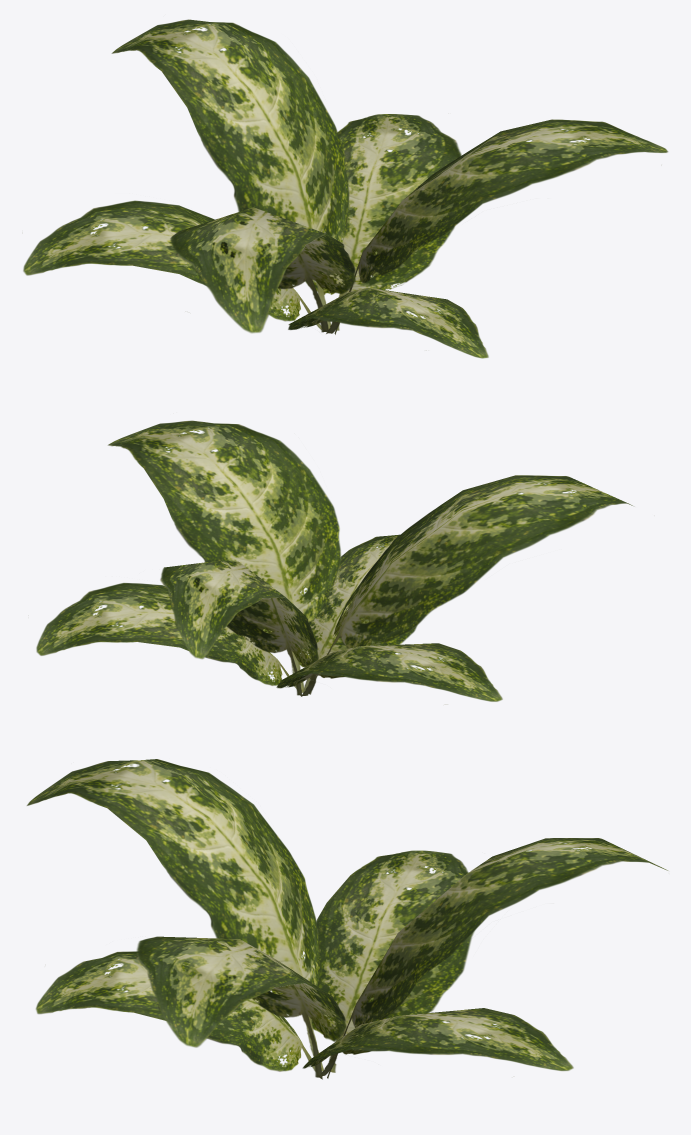
The model's file is tropical_plant_2.glb.
3 renders of one model, top to bottom at view 1: azimuth 30°, elevation 25°; view 2: azimuth 150°, elevation 25°; view 3: azimuth 270°, elevation 25°, orthographic. The views are drawn at different scales.
Parts seen in each view (by area): view 1: trop_leav 5; view 2: trop_leav 5; view 3: trop_leav 5.
Part boxes in pixels (<box>): trop_leav 5: <box>23,19,668,358</box>; trop_leav 5: <box>36,420,634,704</box>; trop_leav 5: <box>27,759,668,1079</box>.
Size of the model in its own units: 616 by 230 by 574.
1 material, 1 textured.
